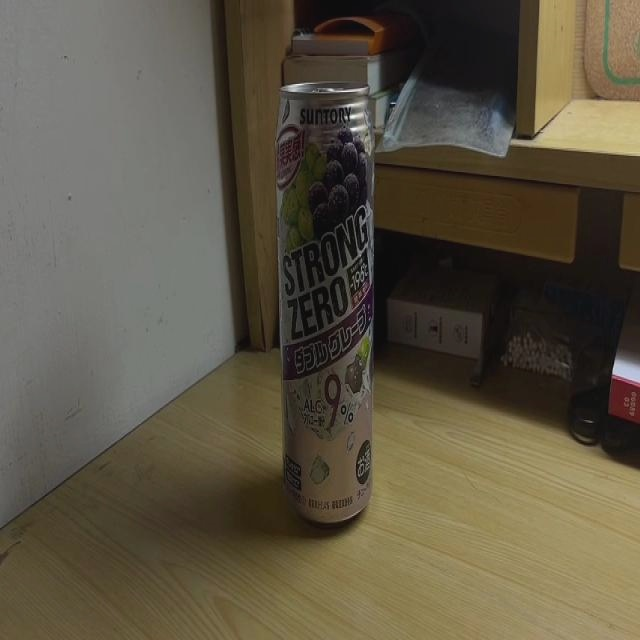Liquor: (276, 80, 376, 527)
